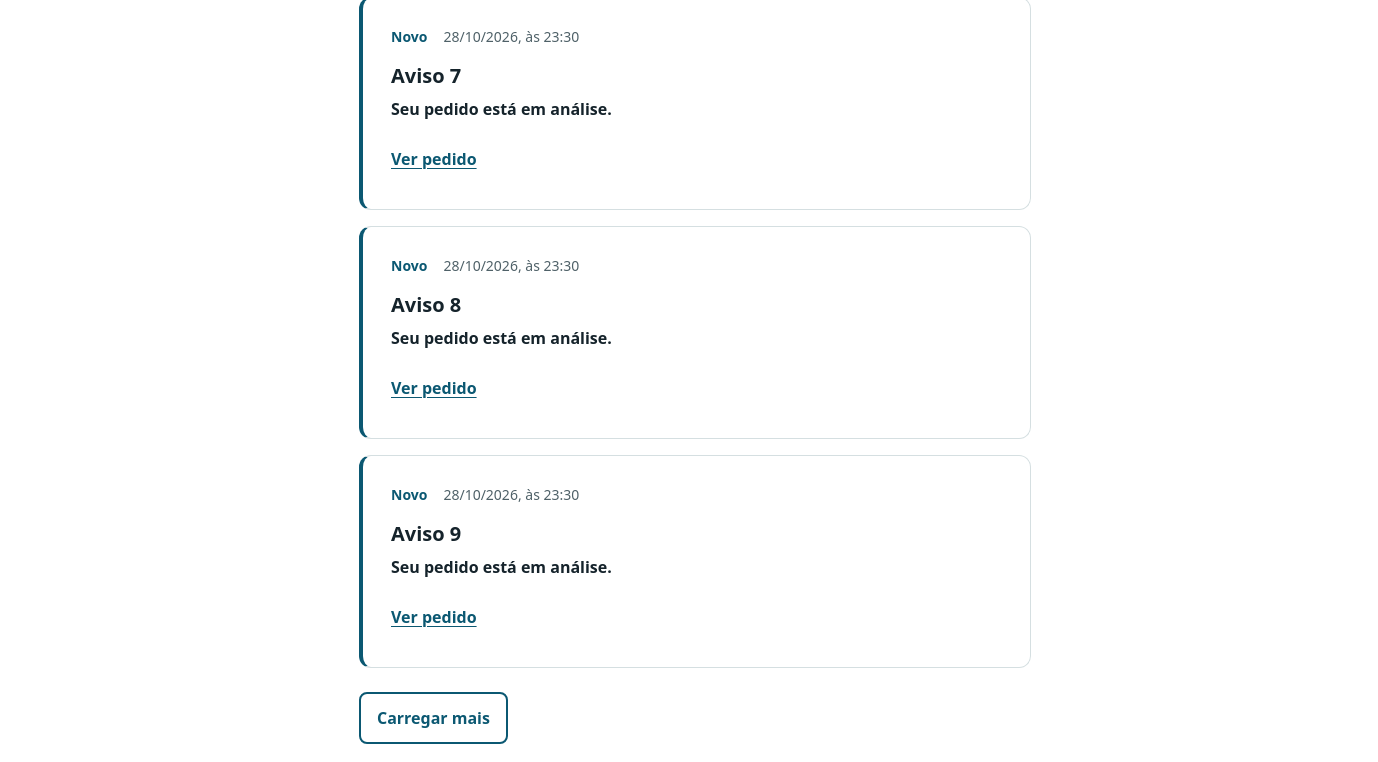
RF-019 — avisos do paciente › pagina de dez em dez, deduplica por id e preserva itens ao falhar Carregar mais
(page scrolled)
Click the button "Carregar mais" at (434, 718), box [359,692,508,744]
(page scrolled)
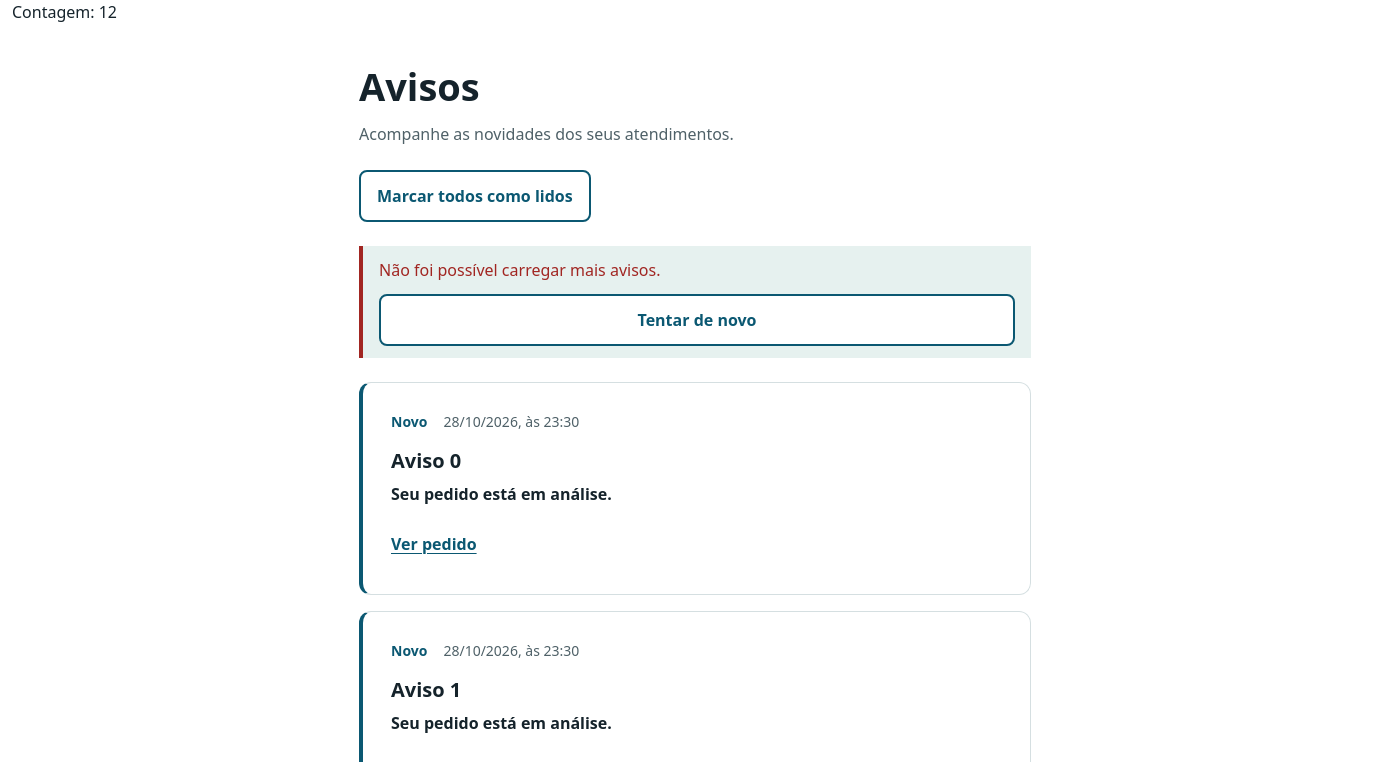
Expected: the message shows "Não foi possível carregar mais avisos.", [379,259,660,281]
Click the button "Tentar de novo" at (697, 320), box [379,294,1015,346]
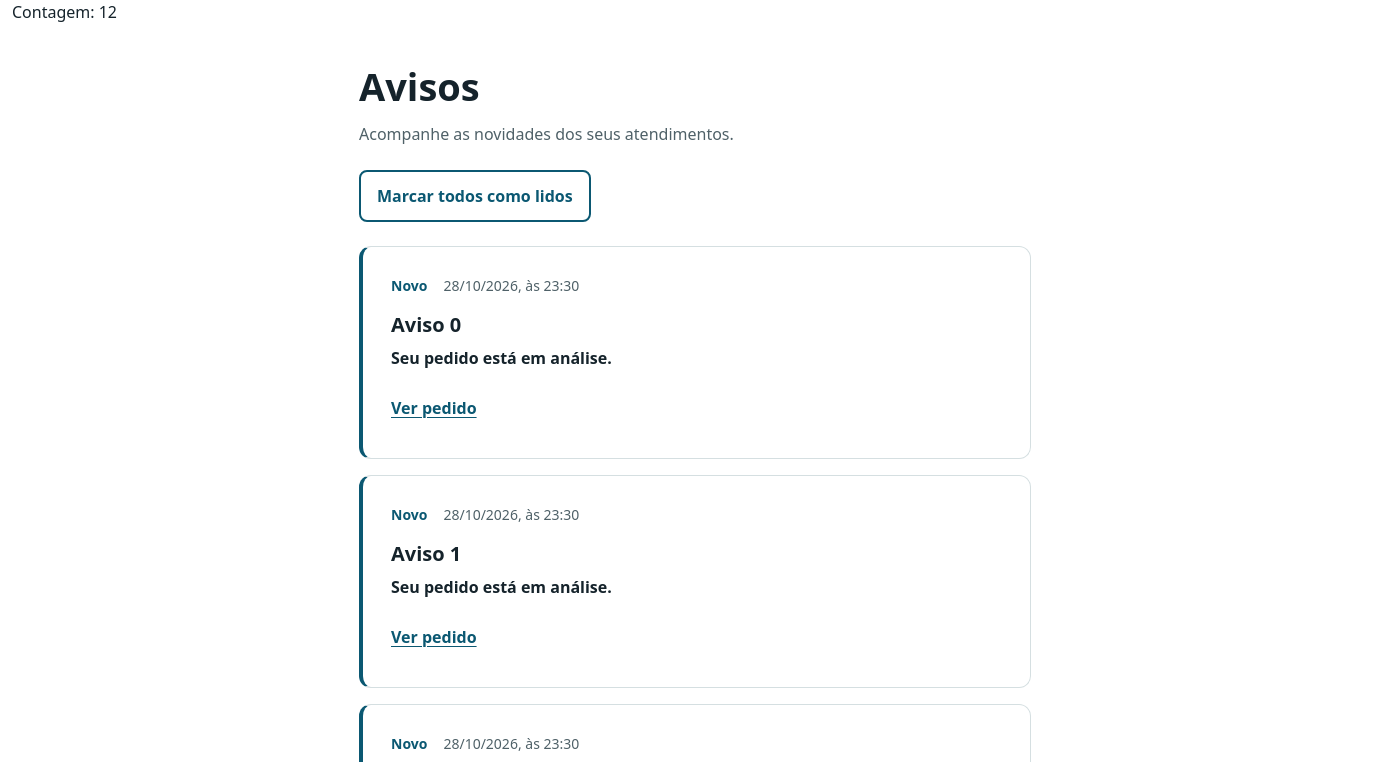
Expected: the number of list items is 11
Expected: the message "carregar mais" is gone
